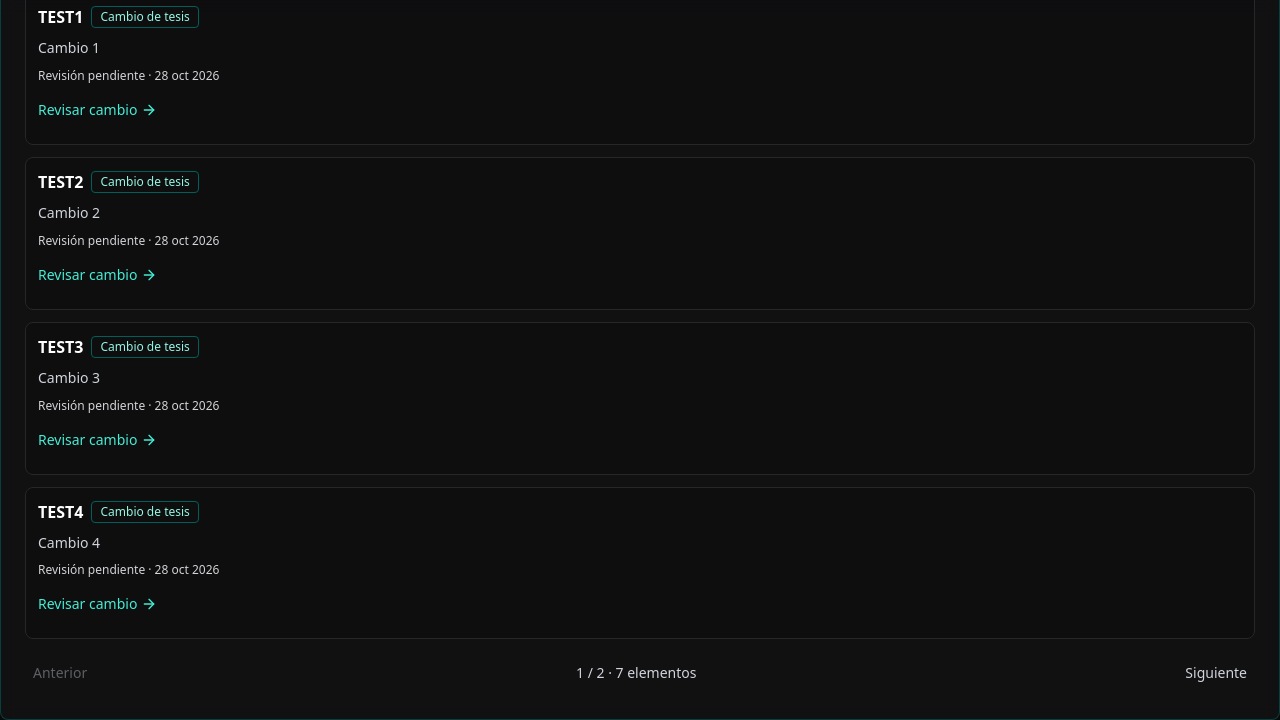
Test: HomeAttention › paginates with no hidden remainder
(page scrolled)
Expected: the text "TEST6" is not shown
Click the button "Siguiente": (1216, 673) [1177, 651, 1255, 695]
(page scrolled)
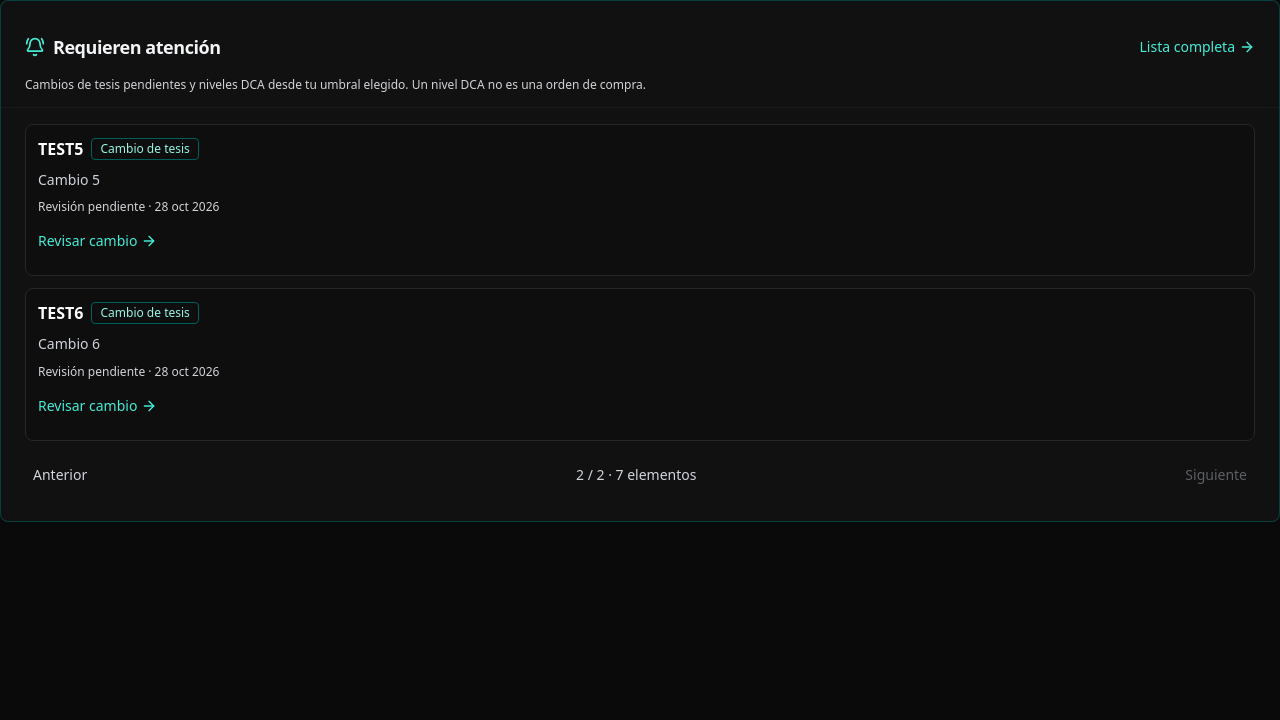
Expected: the text "TEST6" is shown, [38, 301, 84, 325]
Expected: the text "2 / 2 · 7 elementos" is shown, [576, 465, 696, 485]
